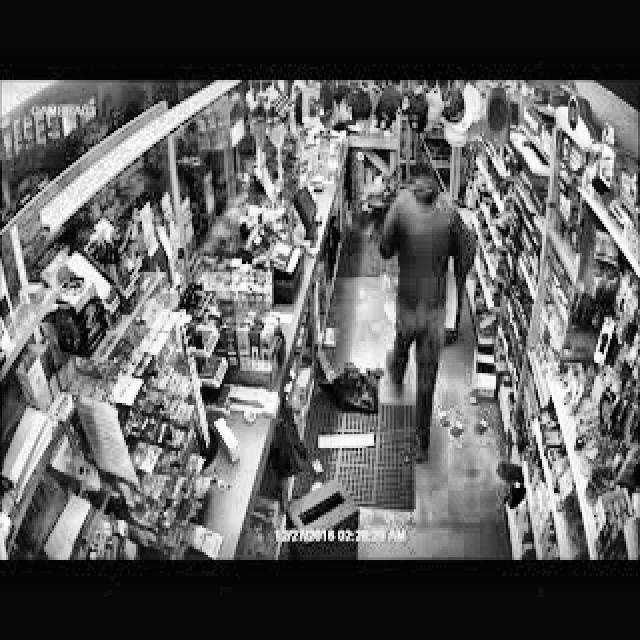burglary: (368, 136, 488, 466)
